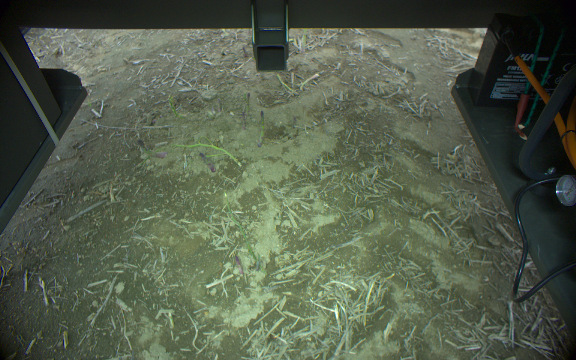aspa: (255, 110, 266, 148)
